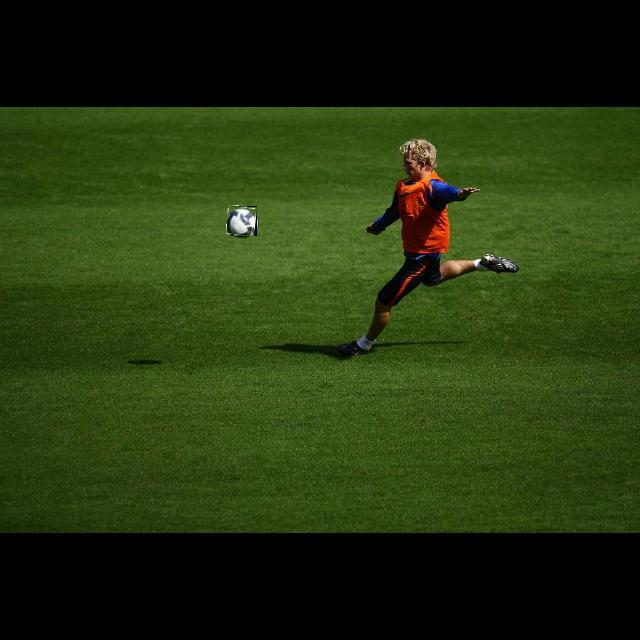Football: (227, 206, 257, 236)
